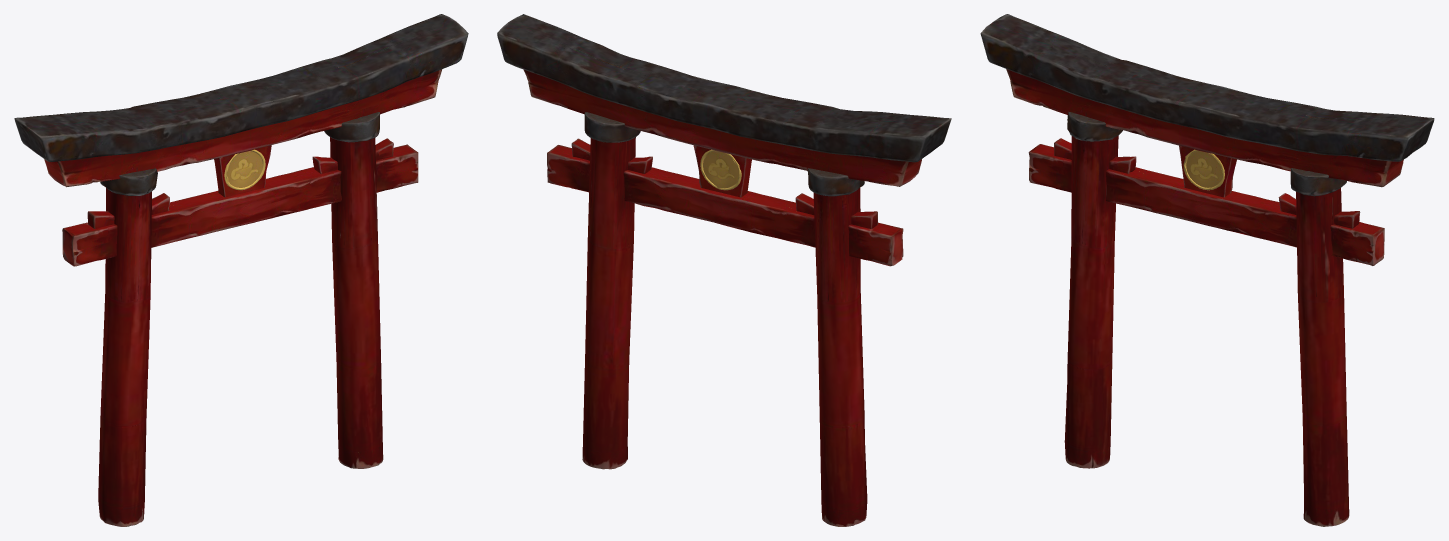
The model's file is gate.glb.
3 renders of one model, left to right at view 1: azimuth 30°, elevation 25°; view 2: azimuth 150°, elevation 25°; view 3: azimuth 330°, elevation 25°, orthographic.
Visible parts, largest first — view 1: geometry_0; view 2: geometry_0; view 3: geometry_0.
Part boxes in pixels (x1=…): geometry_0: x1=14, y1=14, x2=468, y2=526; geometry_0: x1=497, y1=14, x2=951, y2=526; geometry_0: x1=980, y1=14, x2=1434, y2=526.
Size of the model in its own units: 0.9497 by 0.8755 by 0.1172.
Materials: 1 (1 with a texture image).
